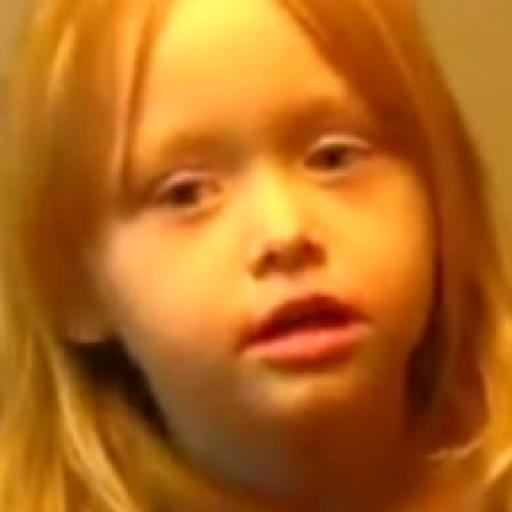Autism: (117, 40, 441, 470)
